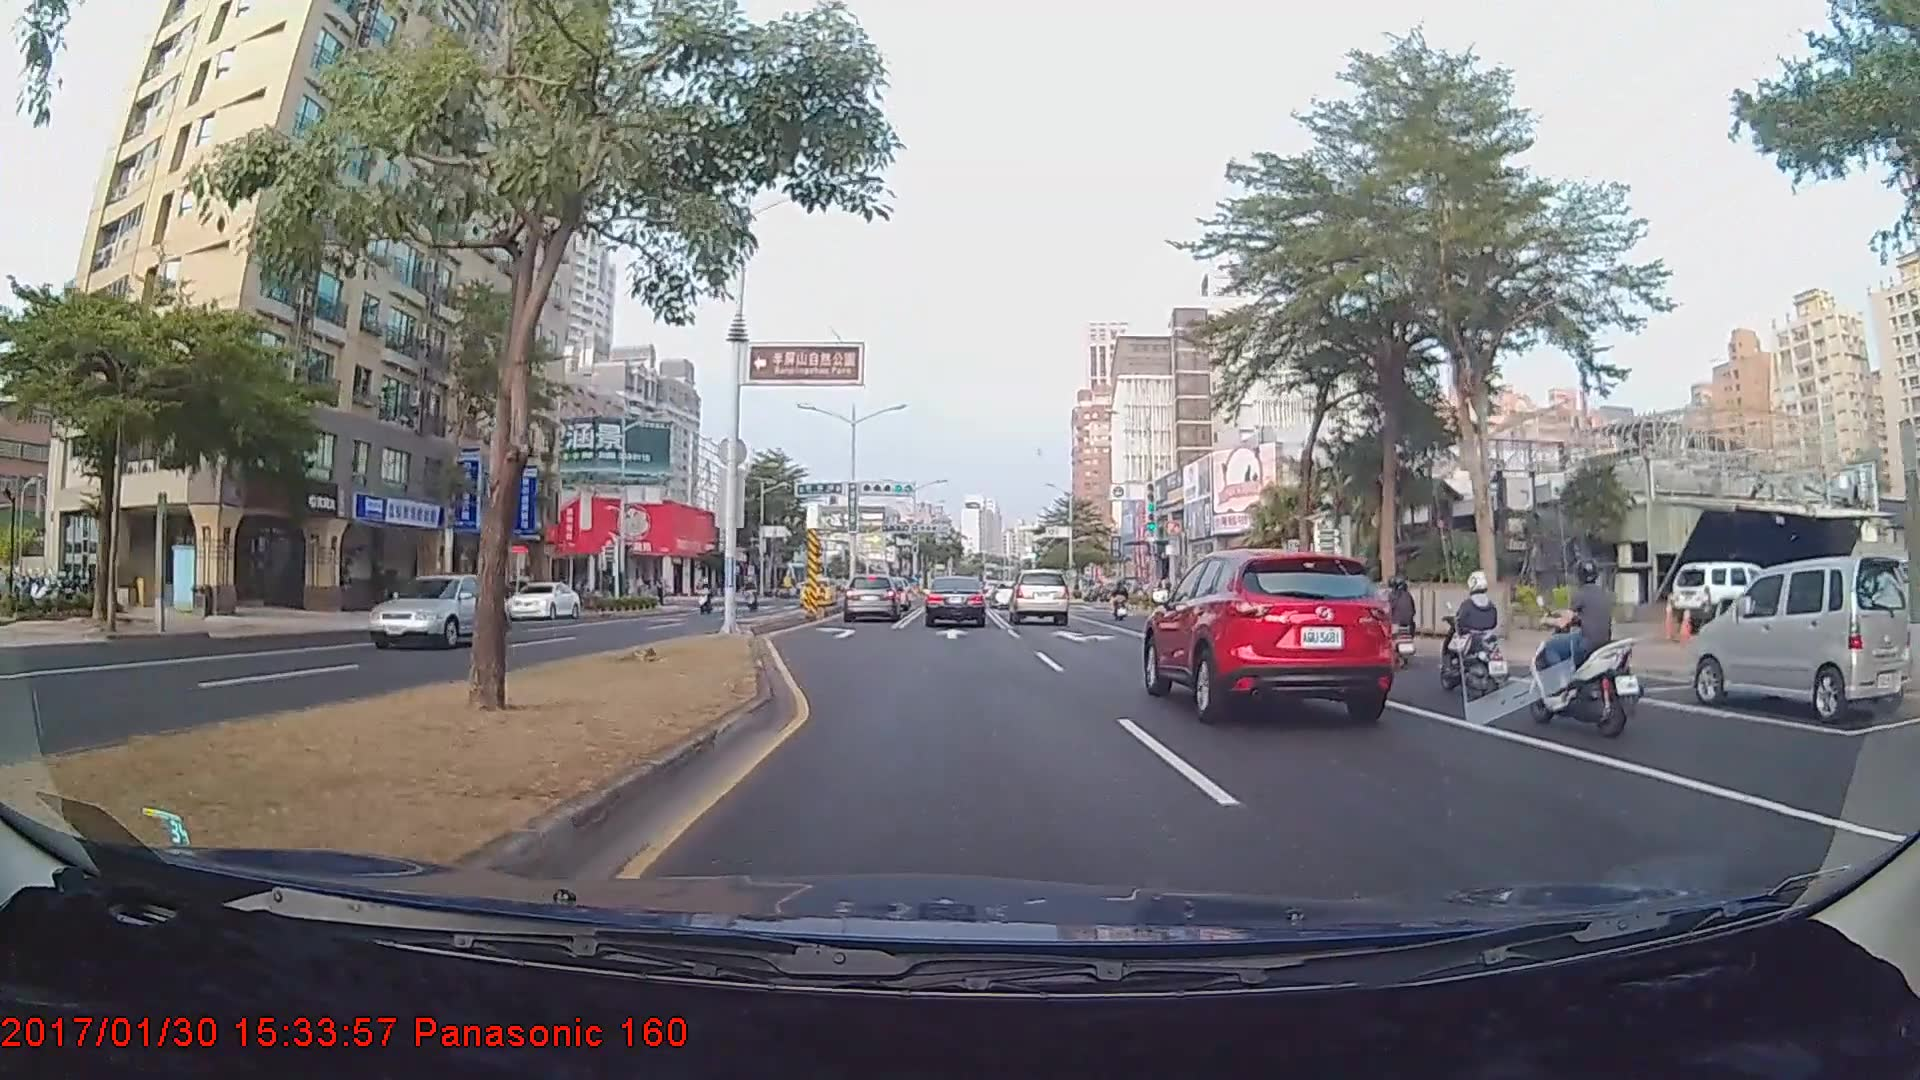rider: (1522, 553, 1644, 738), (1431, 572, 1528, 714), (1369, 576, 1420, 679), (1109, 583, 1135, 626)
vehicle: (1144, 542, 1398, 721), (1686, 557, 1914, 720), (366, 572, 504, 649), (1668, 559, 1762, 627), (840, 572, 907, 623), (1009, 568, 1070, 624), (924, 575, 986, 628), (505, 581, 580, 621)
